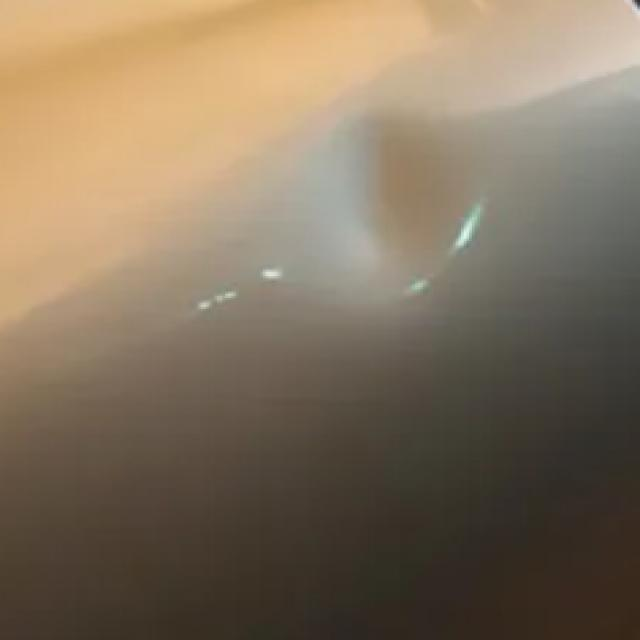dents: (286, 106, 504, 318)
